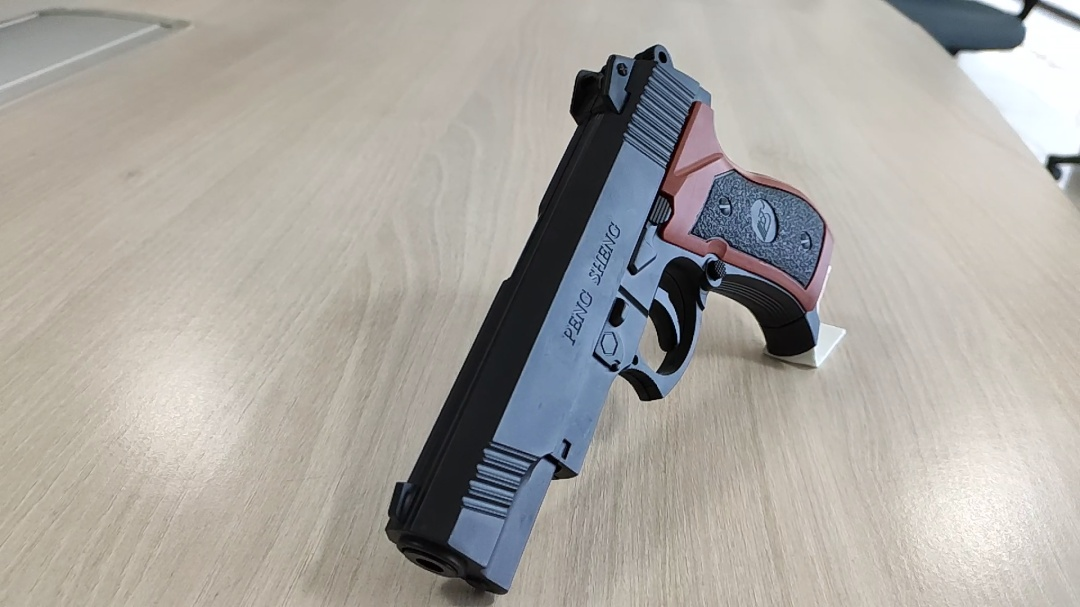gun: (381, 41, 837, 598)
